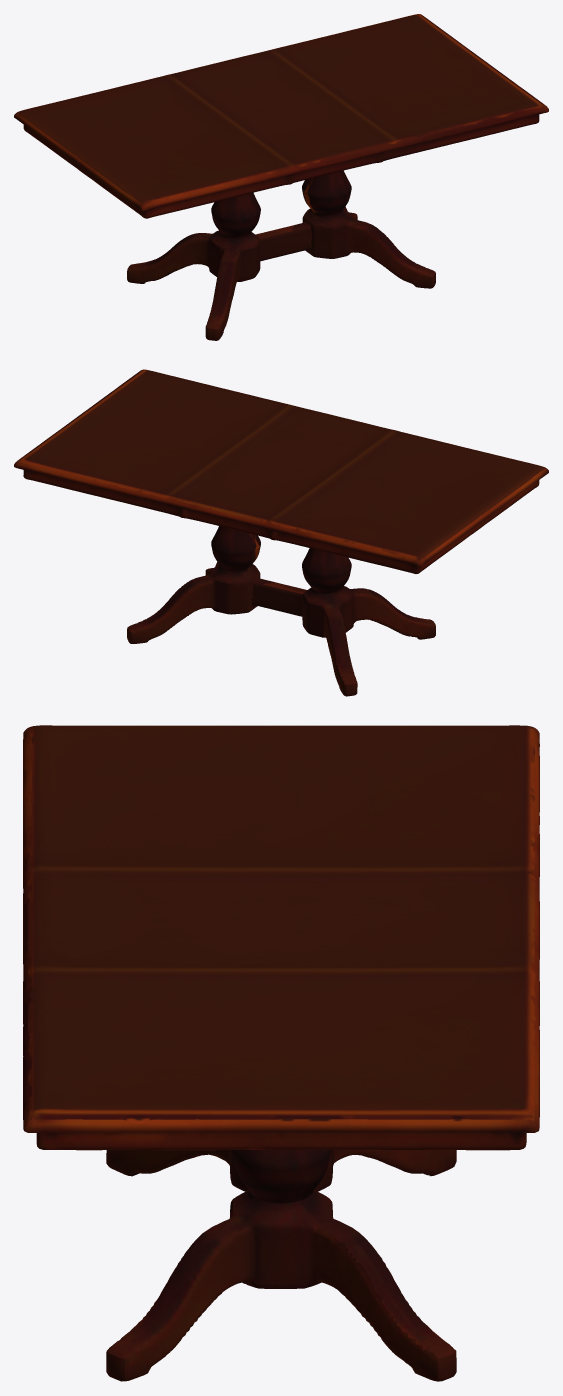
File: table.glb
3 views of the same model, one above another, from view 1: azimuth 30°, elevation 25°; view 2: azimuth 150°, elevation 25°; view 3: azimuth 270°, elevation 25° (orthographic). The views are drawn at different scales.
Parts seen in each view (by area): view 1: tmpsn6d1nka.ply; view 2: tmpsn6d1nka.ply; view 3: tmpsn6d1nka.ply.
Boxes of the visible parts, <box> form: tmpsn6d1nka.ply: <box>14,14,548,340</box>; tmpsn6d1nka.ply: <box>14,369,548,696</box>; tmpsn6d1nka.ply: <box>23,725,539,1381</box>.
Size of the model in its own units: 1.99 by 0.8226 by 1.09.
Materials: 1 (1 with a texture image).
